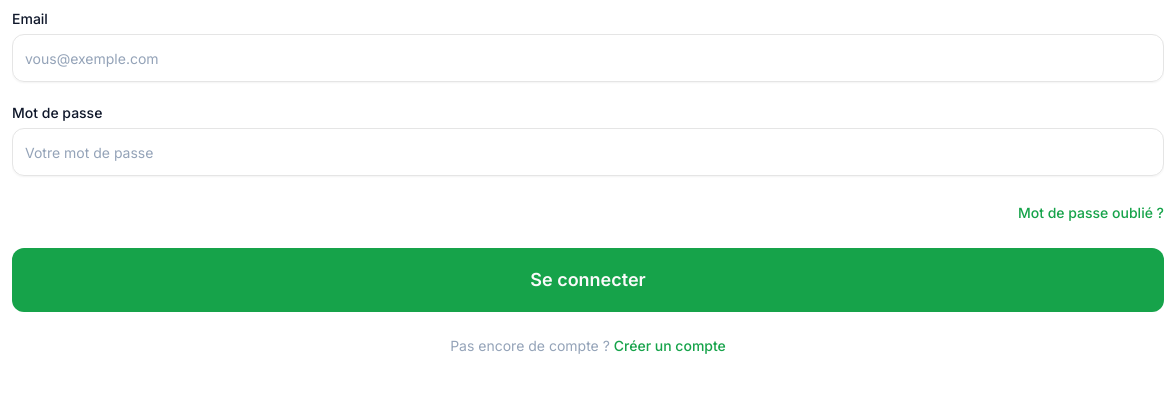
Test case: LoginForm › should show validation error for empty password on blur
Click the password field labelled "Mot de passe" at (588, 152), box [12,128,1164,176]
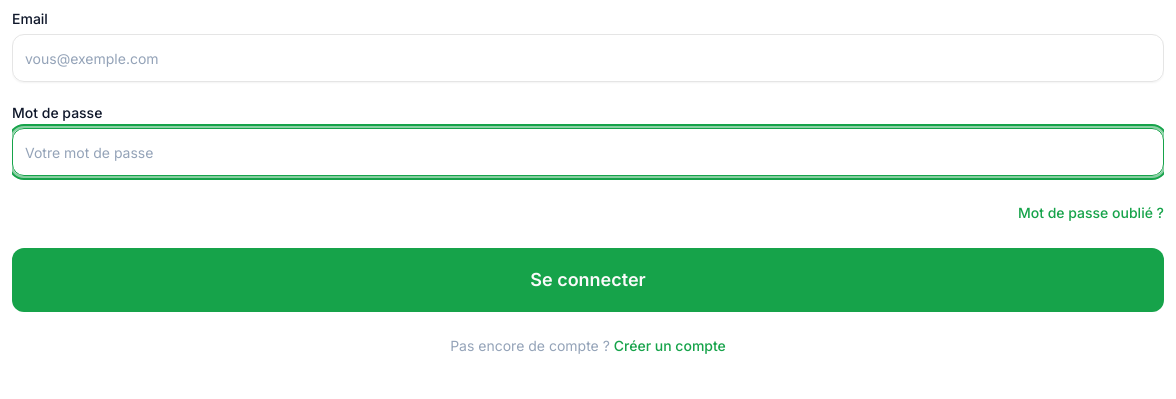
Press Tab
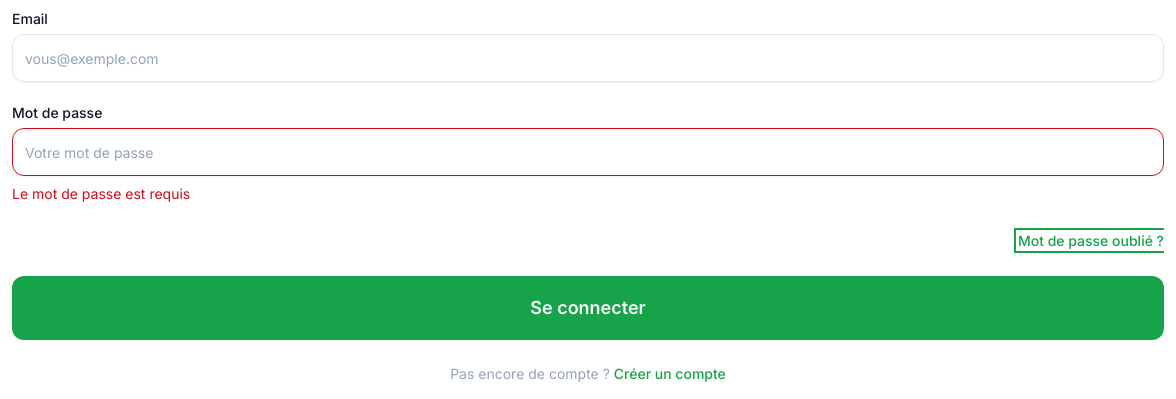
expect the text "Le mot de passe est requis" is shown: met, box [12,185,190,202]
